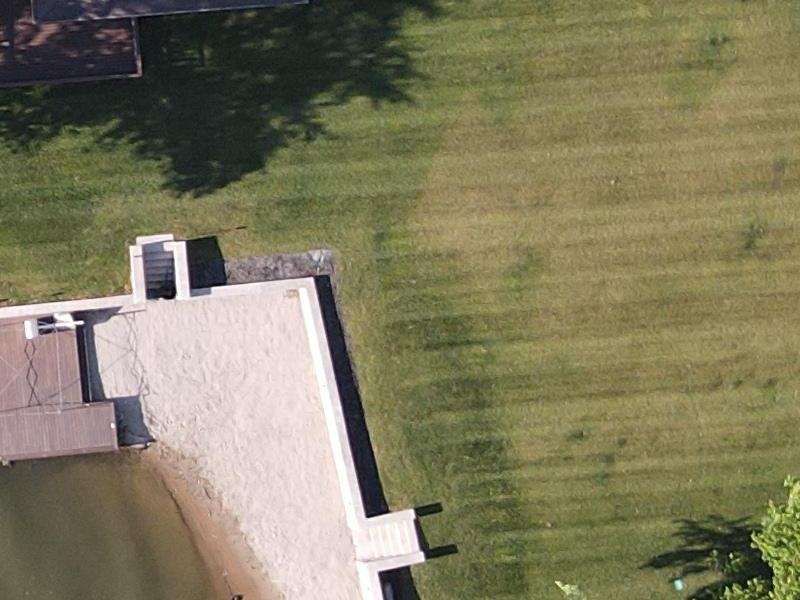boat: (0, 295, 118, 482)
